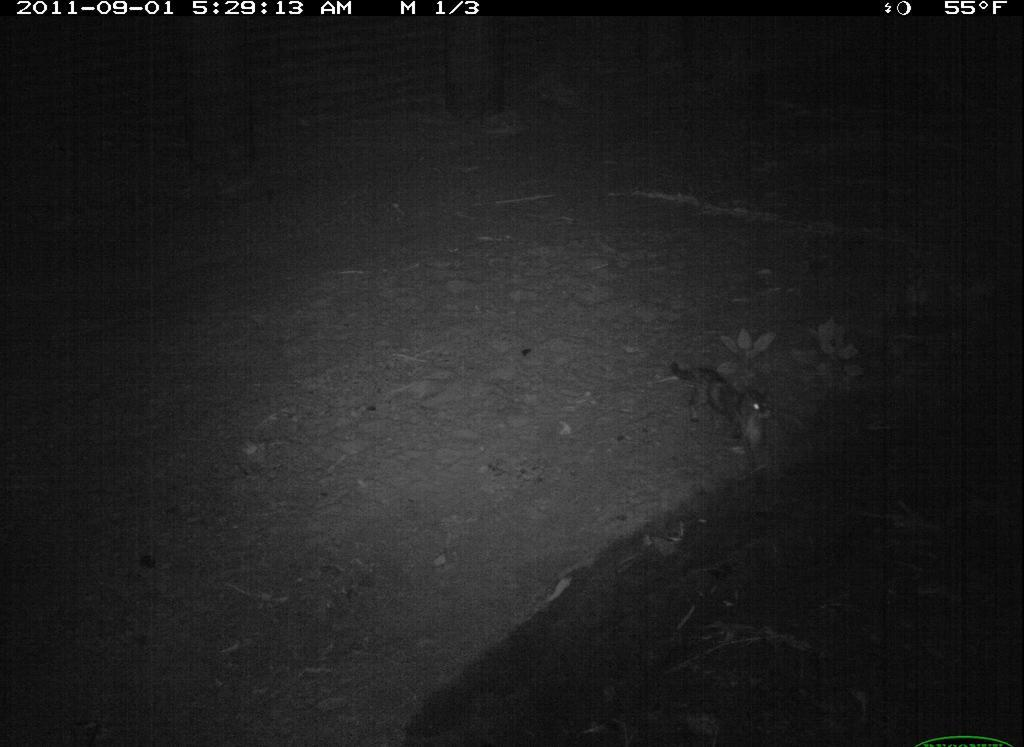cat: (663, 350, 779, 484)
